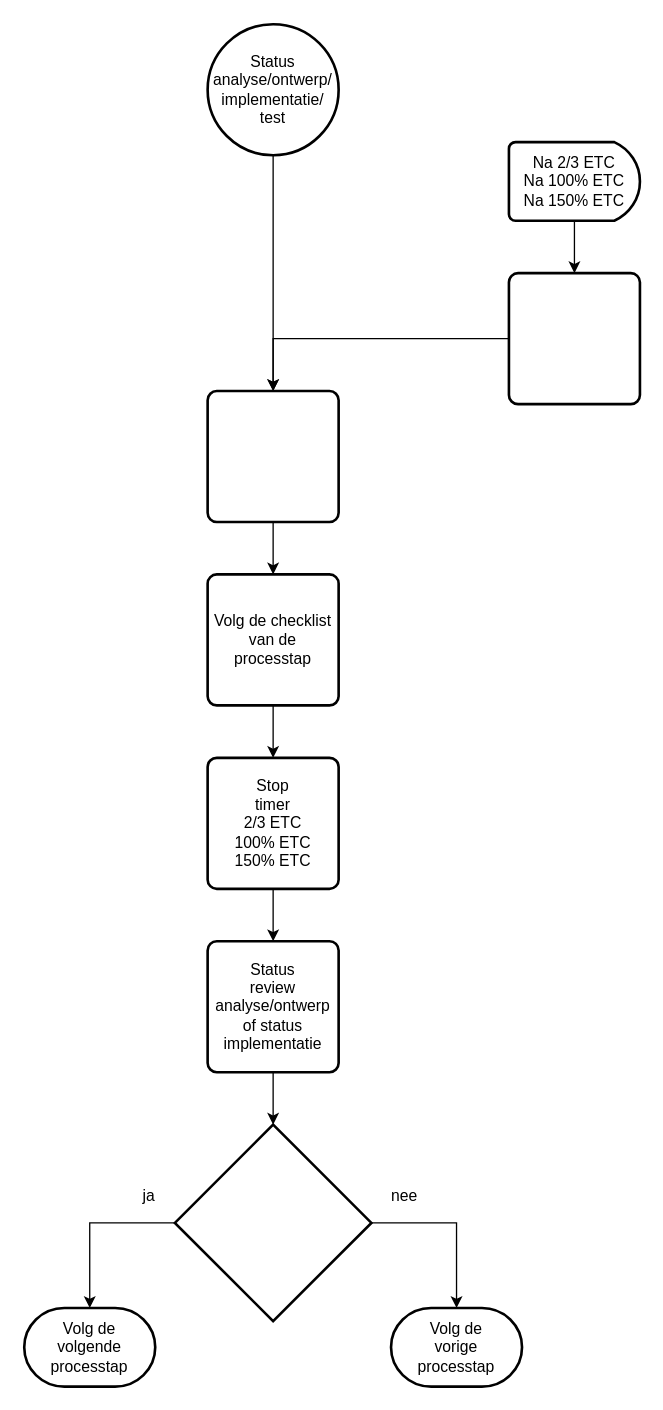
Image size: 663x1410. Some labels were removed from this diagram. Here are the shapes that lost their labels. From the top down, the centre of each, then its label:
the point at 574,338: Volg de checklist van de evaluatie
the point at 272,456: Start timer 2/3 ETC 100% ETC 150% ETC
the point at 272,1222: Analyse/ontwerp akkoord of implementatie afgerond?
